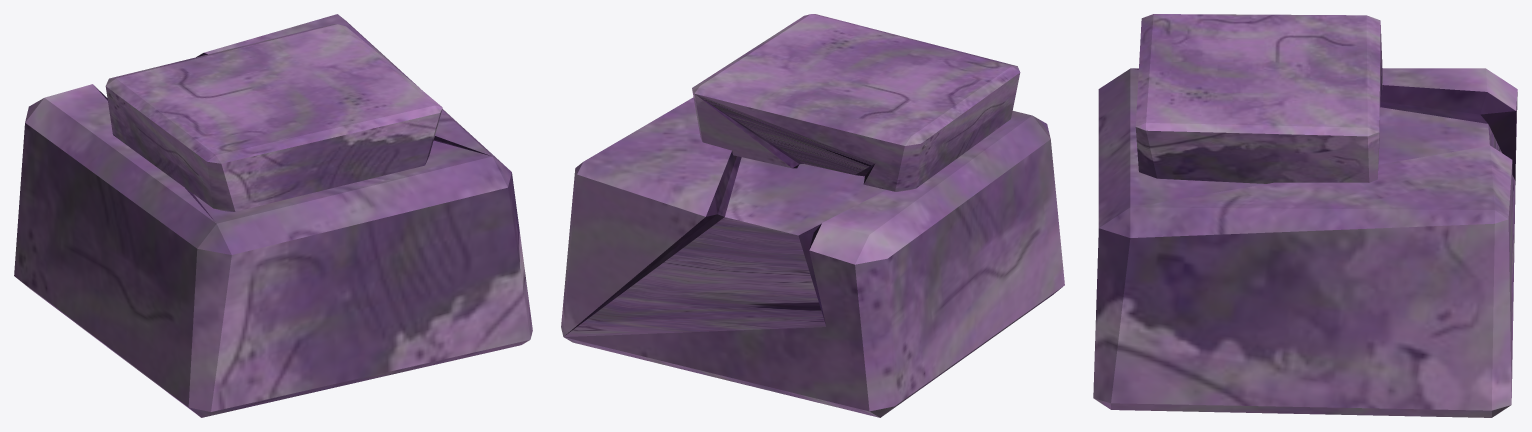
Rendered from entity120116.gltf.
The picture shows the model from 3 angles, left to right: view 1: azimuth 30°, elevation 25°; view 2: azimuth 150°, elevation 25°; view 3: azimuth 270°, elevation 25°; orthographic projection. The views are drawn at different scales.
Parts seen in each view (by area): view 1: node_Str_Ruins_03; view 2: node_Str_Ruins_03; view 3: node_Str_Ruins_03.
Part boxes in pixels (box(x1,y1,x2,y2)): node_Str_Ruins_03: box(14, 14, 532, 417); node_Str_Ruins_03: box(561, 14, 1064, 417); node_Str_Ruins_03: box(1093, 14, 1517, 417).
Size of what is drawn, in the model's own units: 1.91 by 1.27 by 1.92.
